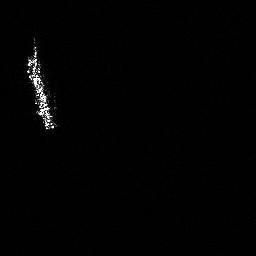ship: (21, 32, 64, 136)
